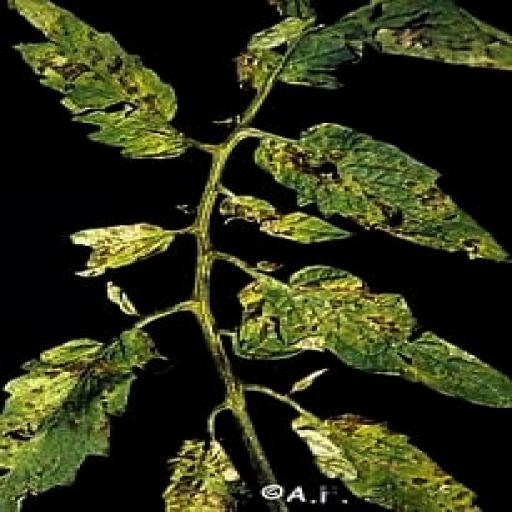Septoria: (238, 262, 512, 412), (250, 120, 512, 262), (11, 0, 186, 161), (0, 324, 150, 510), (224, 0, 512, 90), (287, 414, 482, 512), (218, 194, 356, 246), (164, 440, 248, 512), (73, 220, 175, 277)
